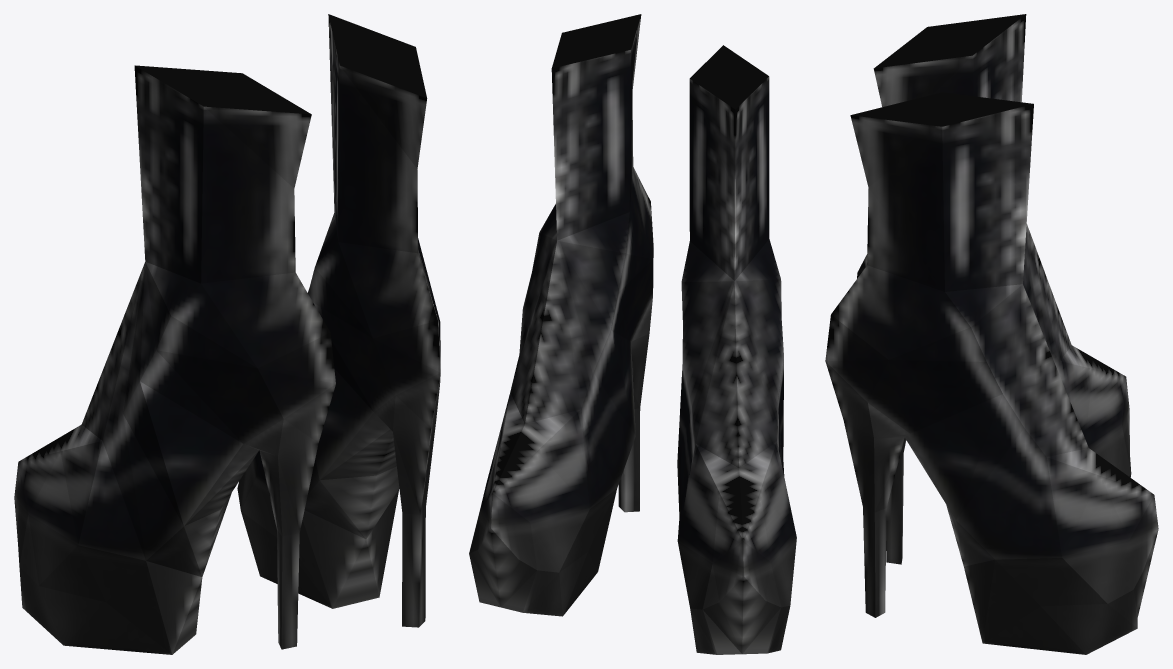
The model's file is heels.fbx.
3 renders of one model, left to right at view 1: azimuth 30°, elevation 25°; view 2: azimuth 150°, elevation 25°; view 3: azimuth 270°, elevation 25°, orthographic. The views are drawn at different scales.
Parts seen in each view (by area): view 1: Boot.001, Boot; view 2: Boot, Boot.001; view 3: Boot, Boot.001.
Boxes of the visible parts, <box> form: Boot.001: <box>14,65,335,654</box>; Boot: <box>237,14,440,627</box>; Boot: <box>469,14,653,616</box>; Boot.001: <box>677,45,796,654</box>; Boot: <box>825,92,1158,654</box>; Boot.001: <box>857,14,1131,564</box>.
Size of the model in its own units: 119 by 193 by 109.
